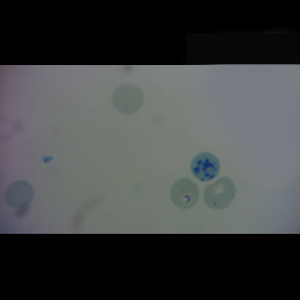aggregate reticulocyte: (189, 151, 222, 183)
erythrocyte: (3, 178, 34, 211)
punctate reticulocyte: (202, 176, 238, 211), (110, 82, 144, 115), (169, 177, 201, 211)
